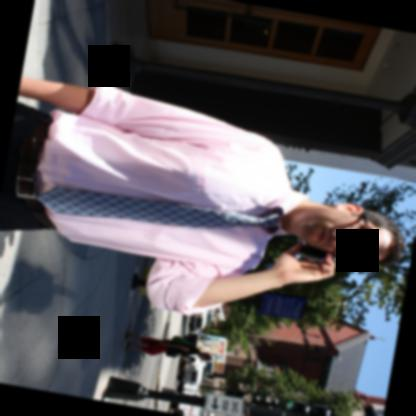backpack: (170, 335, 200, 350)
handbag: (170, 334, 193, 345), (163, 352, 179, 358)
